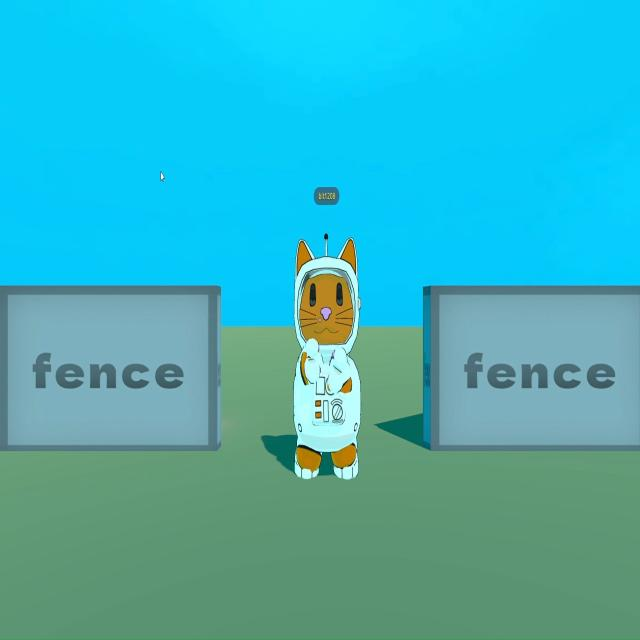human: (290, 227, 361, 486)
